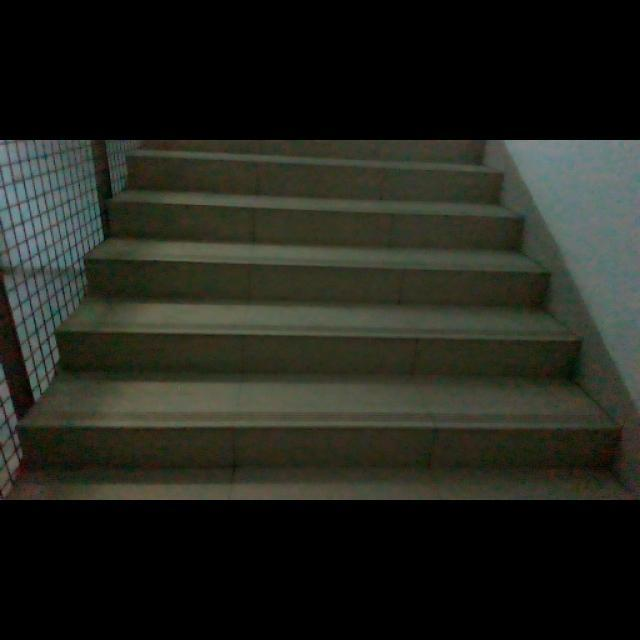stair: (22, 142, 616, 488)
